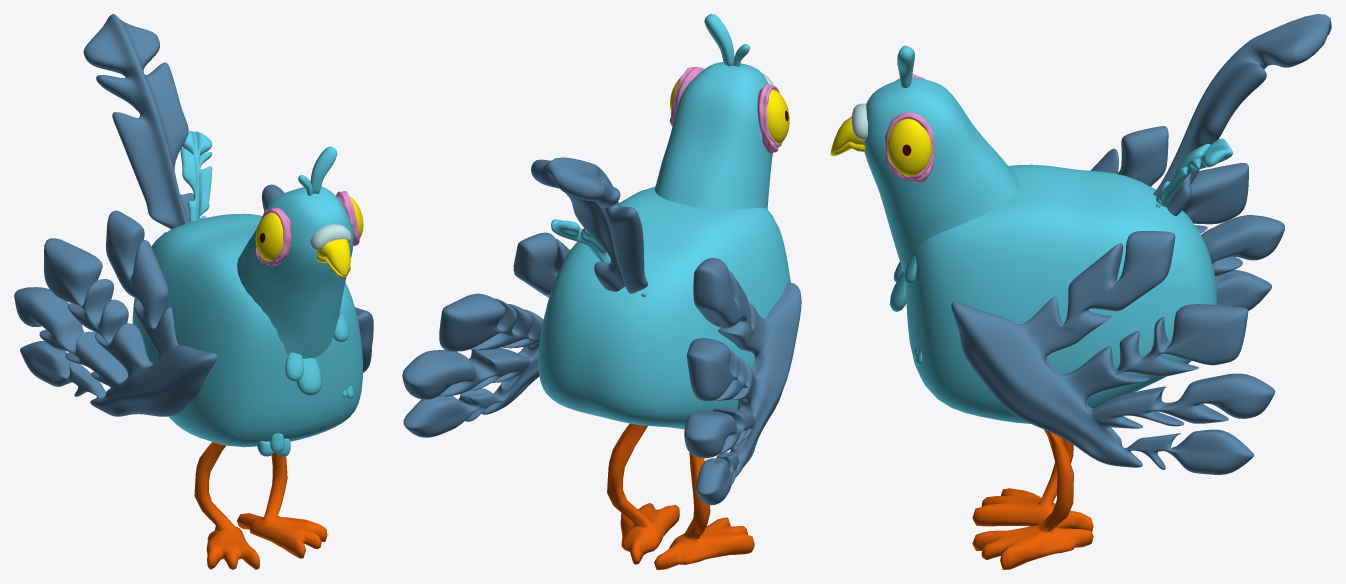
The model's file is Taube_neu_fertig_baked.glb.
3 views of the same model, side by side, from view 1: azimuth 30°, elevation 25°; view 2: azimuth 150°, elevation 25°; view 3: azimuth 270°, elevation 25° (orthographic). The views are drawn at different scales.
Parts seen in each view (by area): view 1: Körper, Cube.004, Schwanzfeder 1, Hals, Fuß, Fuß.001, Schwanzfeder 2, Augapfel, Cube.003, Taube.001, Cube, Auge (+4 smaller); view 2: Körper, Cube.004, Cube.003, Hals, Schwanzfeder 1, Fuß, Fuß.001, Augapfel, Schwanzfeder 2, Kopffeder 1, Auge, Auge.001; view 3: Körper, Cube.003, Hals, Cube.004, Schwanzfeder 1, Fuß, Fuß.001, Augapfel.001, Schwanzfeder 2, Auge.001.
Boxes of the visible parts, x1,y1,x2,y2 form: Körper: (132,213,362,456); Cube.004: (14,210,217,416); Schwanzfeder 1: (83,14,193,234); Hals: (237,186,353,358); Fuß: (237,452,327,558); Fuß.001: (194,442,259,569); Schwanzfeder 2: (180,131,212,222); Augapfel: (255,212,283,261); Cube.003: (261,184,373,372); Taube.001: (317,239,350,276); Cube: (296,358,321,395); Auge: (255,207,291,266); Körper: (538,187,790,429); Cube.004: (684,257,801,505); Cube.003: (402,232,570,437); Hals: (654,62,772,209); Schwanzfeder 1: (531,157,648,297); Fuß: (607,423,679,564); Fuß.001: (654,452,754,569); Augapfel: (766,89,789,143); Schwanzfeder 2: (551,219,610,263); Kopffeder 1: (704,14,734,66); Auge: (757,84,782,153); Auge.001: (669,67,704,126); Körper: (905,164,1217,423); Cube.003: (951,231,1275,474); Hals: (864,77,1018,273); Cube.004: (1091,126,1284,310); Schwanzfeder 1: (1153,14,1331,215); Fuß: (972,429,1093,569); Fuß.001: (972,439,1093,531); Augapfel.001: (887,118,931,176); Schwanzfeder 2: (1156,138,1232,207); Auge.001: (884,112,934,182).
Bounding box in the file's own units: 3.16 × 4.62 × 4.07.
